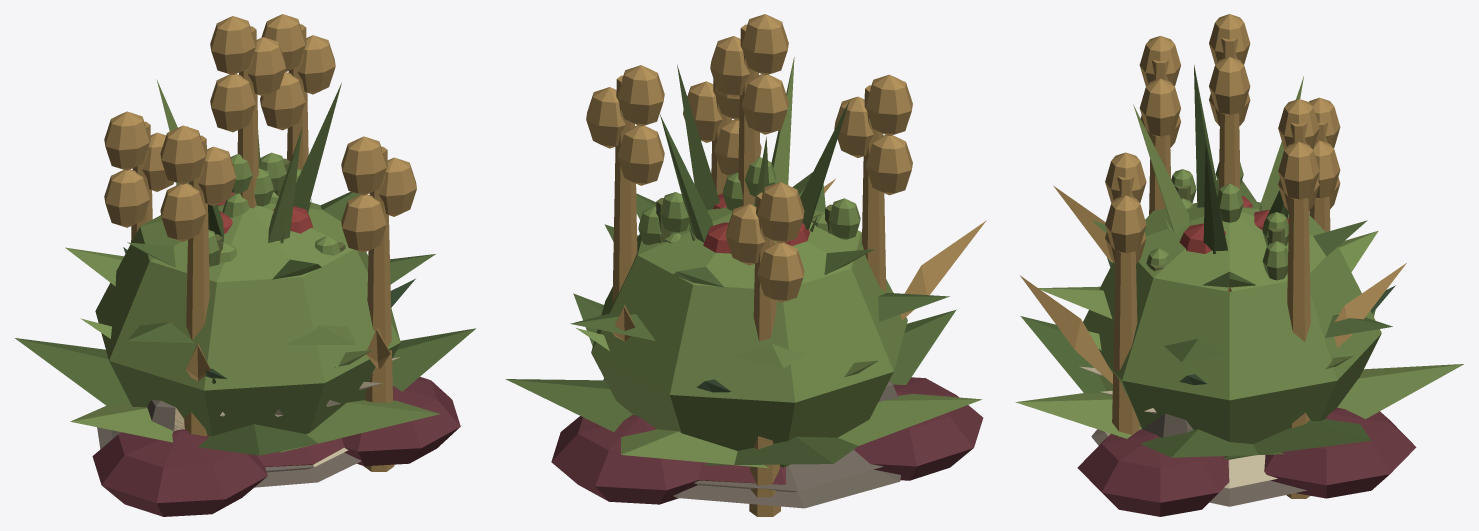
The model's file is flora.glb.
3 renders of one model, left to right at view 1: azimuth 30°, elevation 25°; view 2: azimuth 150°, elevation 25°; view 3: azimuth 270°, elevation 25°, orthographic. The views are drawn at different scales.
Parts seen in each view (by area): view 1: crop_cabbage_3, crop_wheat_3, crop_moss_3, herb_moss_ready, crop_garlic_3, crop_wheat_2, herb_ginseng_ready, herb_ash_picked, crop_ginseng_3, herb_ash_ready, herb_mandrake_ready; view 2: crop_cabbage_3, crop_wheat_3, crop_moss_3, crop_garlic_3, herb_moss_ready, crop_wheat_2, herb_ash_ready, crop_ginseng_3, herb_pearl_picked, herb_ginseng_ready, herb_mandrake_ready; view 3: crop_cabbage_3, crop_wheat_3, crop_moss_3, herb_moss_ready, crop_garlic_3, crop_wheat_2, crop_ginseng_3, herb_ash_picked, herb_ginseng_ready, herb_pearl_ready, crop_mandrake_3.
Boxes of the visible parts, x1=… form: crop_cabbage_3: x1=15, y1=183, x2=475, y2=455; crop_wheat_3: x1=104, y1=14, x2=416, y2=471; crop_moss_3: x1=93, y1=396, x2=452, y2=516; herb_moss_ready: x1=92, y1=377, x2=460, y2=513; crop_garlic_3: x1=156, y1=79, x2=341, y2=243; crop_wheat_2: x1=208, y1=152, x2=345, y2=383; herb_ginseng_ready: x1=65, y1=193, x2=435, y2=344; herb_ash_picked: x1=147, y1=400, x2=361, y2=482; crop_ginseng_3: x1=66, y1=192, x2=434, y2=344; herb_ash_ready: x1=97, y1=407, x2=317, y2=487; herb_mandrake_ready: x1=123, y1=247, x2=415, y2=378; crop_cabbage_3: x1=505, y1=172, x2=982, y2=468; crop_wheat_3: x1=586, y1=14, x2=986, y2=516; crop_moss_3: x1=551, y1=377, x2=983, y2=501; crop_garlic_3: x1=660, y1=57, x2=849, y2=242; herb_moss_ready: x1=595, y1=378, x2=701, y2=504; crop_wheat_2: x1=638, y1=157, x2=860, y2=244; herb_ash_ready: x1=677, y1=469, x2=900, y2=508; crop_ginseng_3: x1=571, y1=205, x2=949, y2=368; herb_pearl_picked: x1=694, y1=449, x2=883, y2=492; herb_ginseng_ready: x1=570, y1=193, x2=944, y2=368; herb_mandrake_ready: x1=576, y1=328, x2=877, y2=392; crop_cabbage_3: x1=1015, y1=180, x2=1463, y2=459; crop_wheat_3: x1=1020, y1=14, x2=1406, y2=498; crop_moss_3: x1=1084, y1=413, x2=1416, y2=501; herb_moss_ready: x1=1077, y1=407, x2=1412, y2=516; crop_garlic_3: x1=1133, y1=65, x2=1303, y2=251; crop_wheat_2: x1=1146, y1=162, x2=1288, y2=280; crop_ginseng_3: x1=1039, y1=196, x2=1392, y2=362; herb_ash_picked: x1=1091, y1=414, x2=1306, y2=506; herb_ginseng_ready: x1=1038, y1=210, x2=1391, y2=361; herb_pearl_ready: x1=1079, y1=366, x2=1277, y2=488; crop_mandrake_3: x1=1088, y1=257, x2=1395, y2=384.
Size of the model in its own units: 0.6627 by 0.697 by 0.6499.
